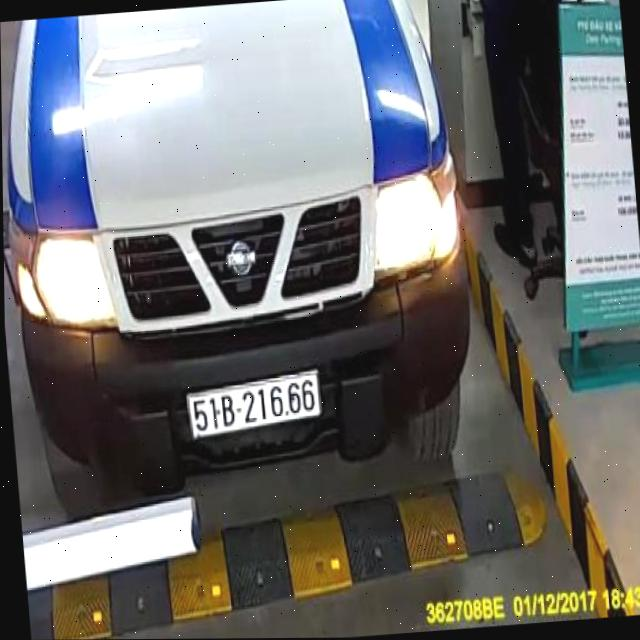car: (0, 0, 493, 523)
plate: (181, 367, 330, 445)
